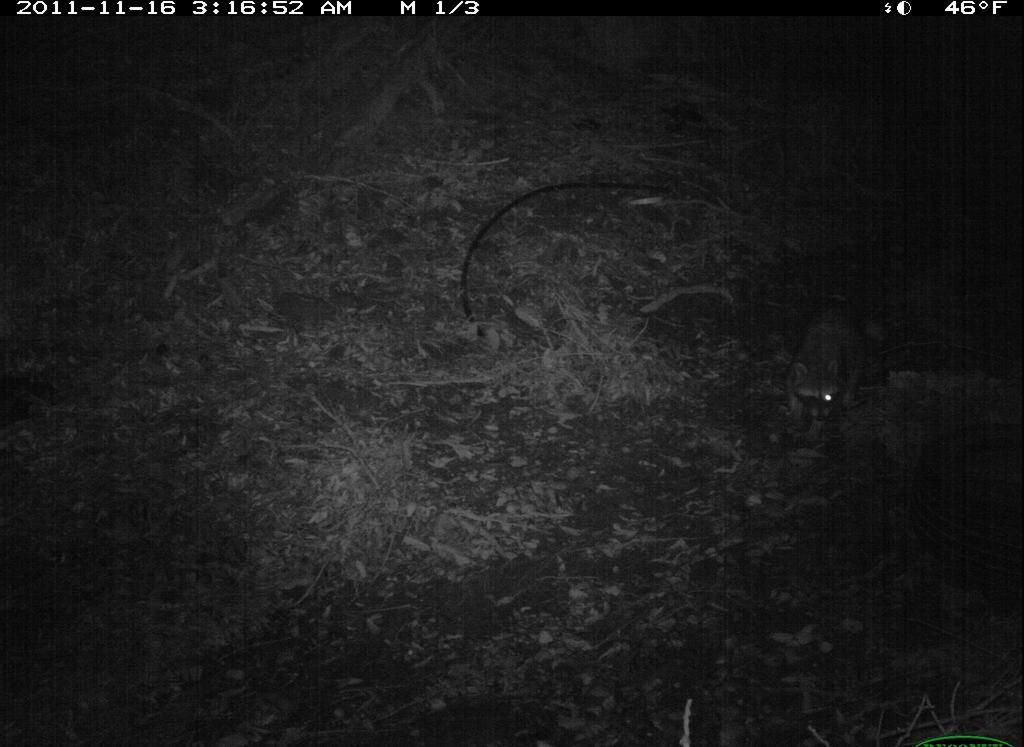raccoon: (772, 285, 880, 443)
